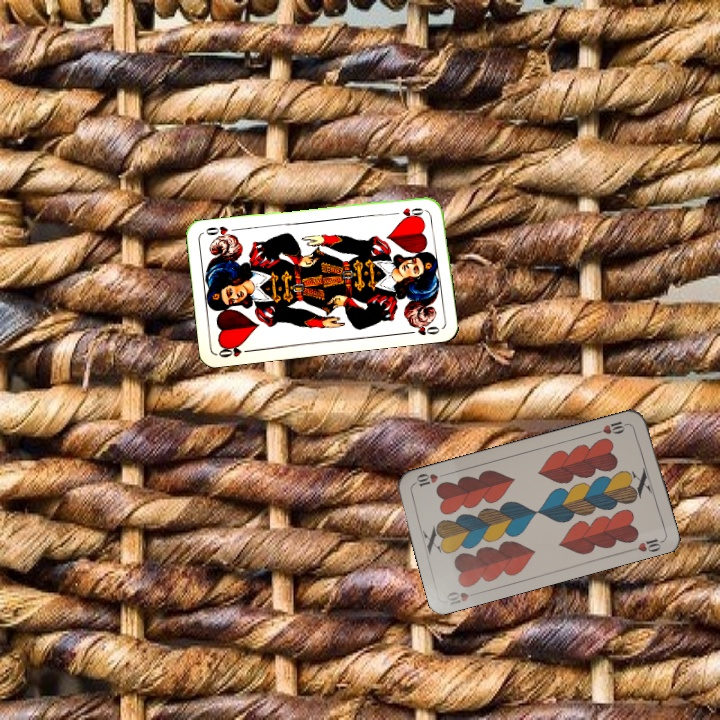H10: (442, 587, 483, 608), (592, 417, 632, 437)
HO: (215, 340, 255, 360), (388, 204, 428, 220)
